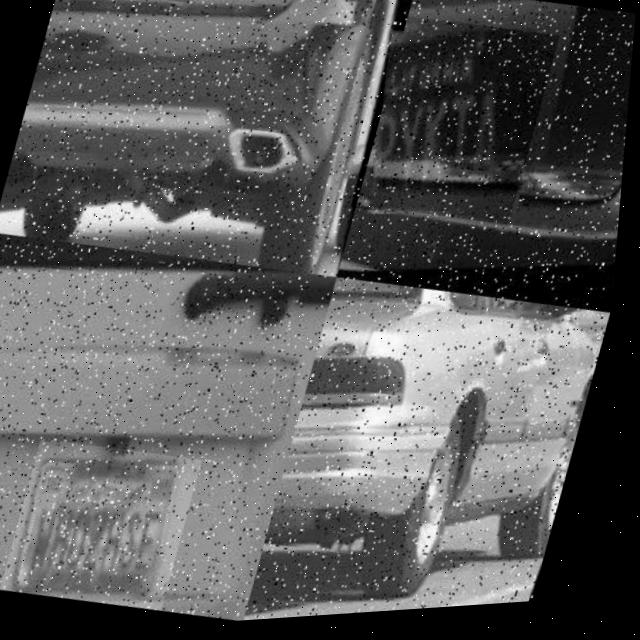LicensePlate: (352, 13, 563, 243), (8, 431, 213, 622), (103, 0, 199, 11)
